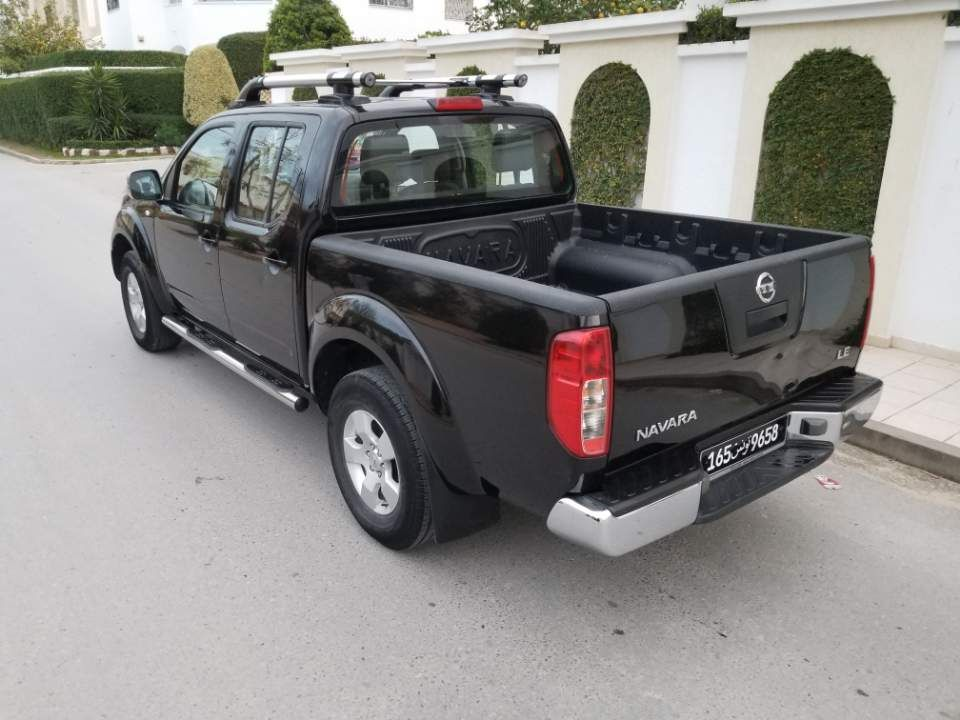LP: (698, 417, 793, 473)
